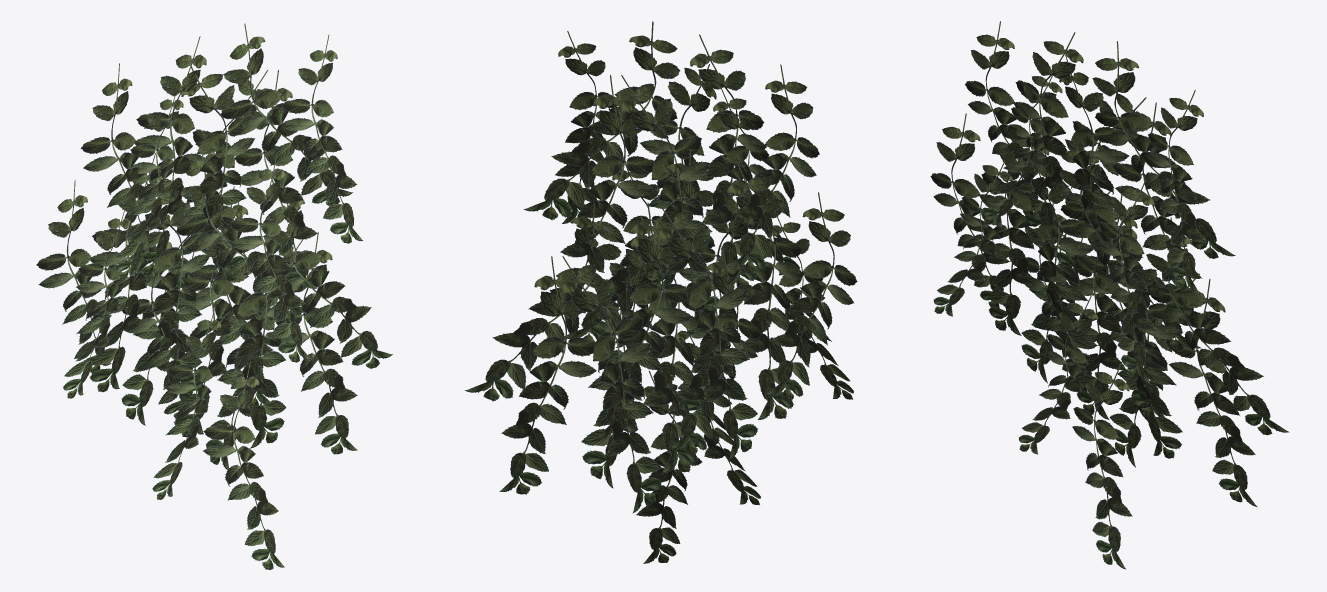
File: SM_Veg_Ivy_01.FBX
3 views of the same model, side by side, from view 1: azimuth 30°, elevation 25°; view 2: azimuth 150°, elevation 25°; view 3: azimuth 330°, elevation 25° (orthographic). The views are drawn at different scales.
Visible parts, largest first — view 1: SM_Veg_Ivy_01; view 2: SM_Veg_Ivy_01; view 3: SM_Veg_Ivy_01.
Boxes of the visible parts, x1,y1,x2,y2 form: SM_Veg_Ivy_01: (36, 23, 392, 569); SM_Veg_Ivy_01: (464, 21, 857, 563); SM_Veg_Ivy_01: (930, 21, 1289, 569).
Bounding box in the file's own units: 2.98 × 3.83 × 0.4799.
